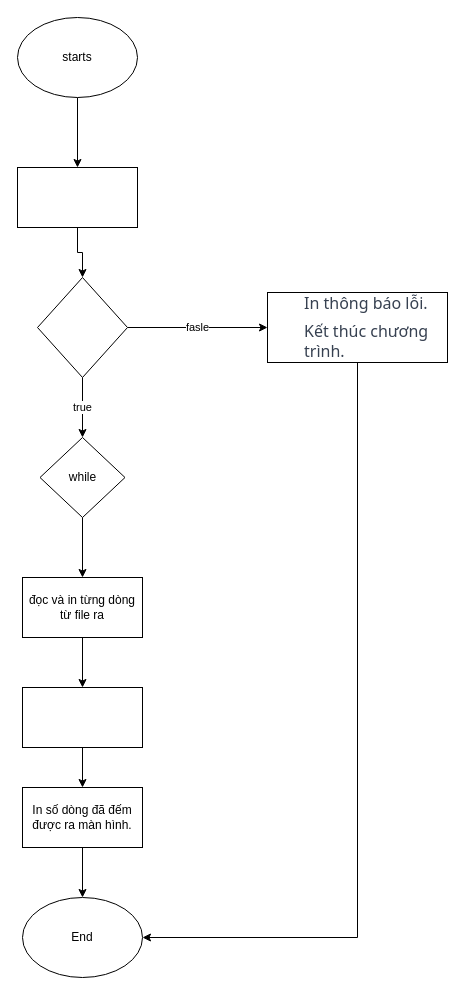
The diagram is 465 pixels wide and 995 high, and some of its shapes have lost their labels. Each missing label, with the centre of its shape:
fclose: the point at 82,717
fopen để mở file "bt03.txt": the point at 77,197
kiểm tra lỗi để mở file: the point at 82,327
